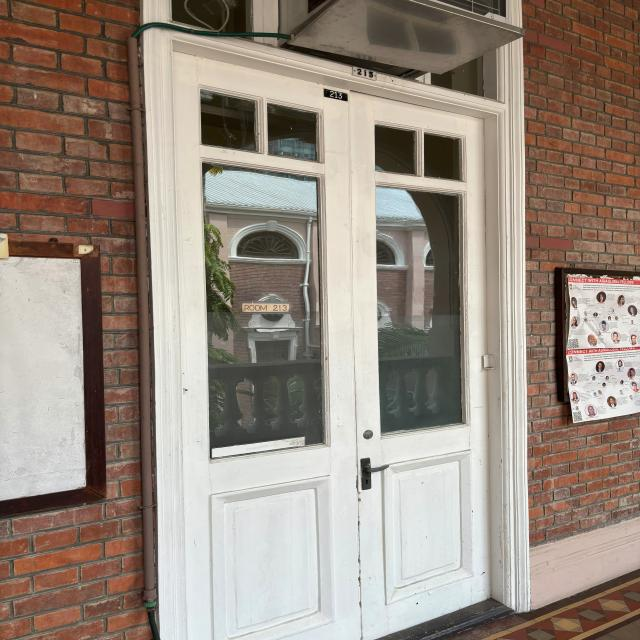MB213_cardboard: (237, 299, 296, 317)
MB213_roomNumber: (322, 86, 350, 104)
MB213_roomNumber_blackdigit: (350, 63, 379, 84)
